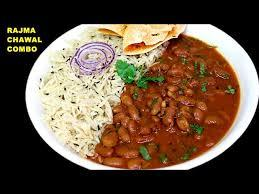rajma: (115, 45, 228, 158)
rice: (45, 49, 105, 145)
salad: (79, 39, 112, 81)
